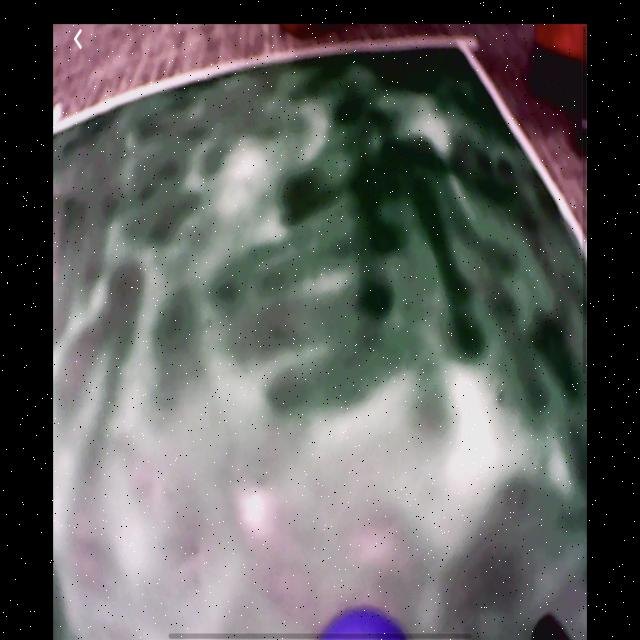ball: (317, 608, 407, 640)
